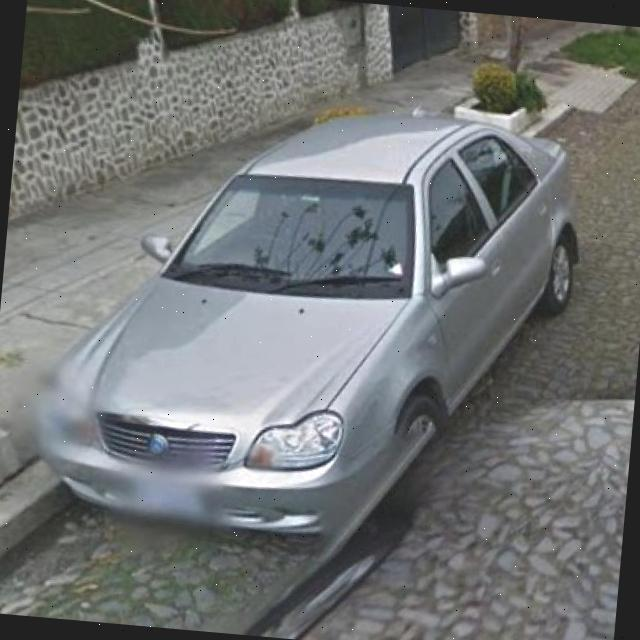car: (35, 117, 580, 548)
